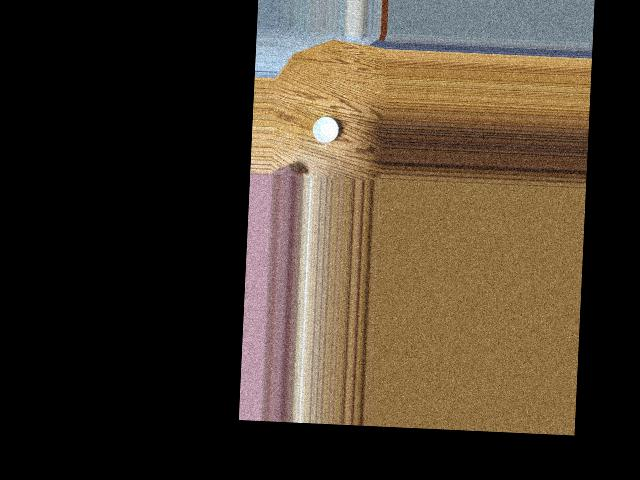cotage: (309, 115, 338, 146)
